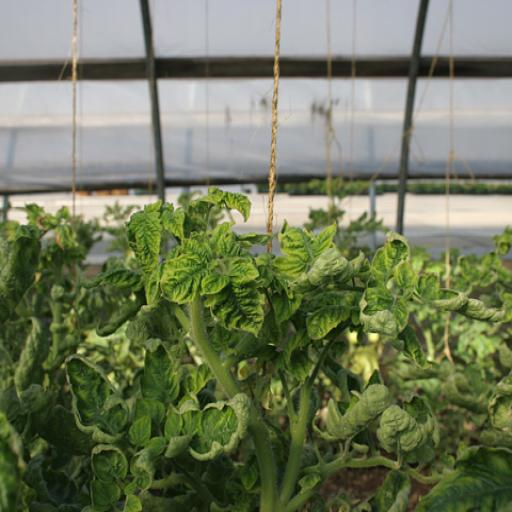Yellow Leaf Curl Virus: (270, 213, 340, 305), (63, 351, 131, 437), (161, 237, 242, 303), (178, 392, 252, 459), (128, 198, 160, 308), (300, 295, 362, 339)
